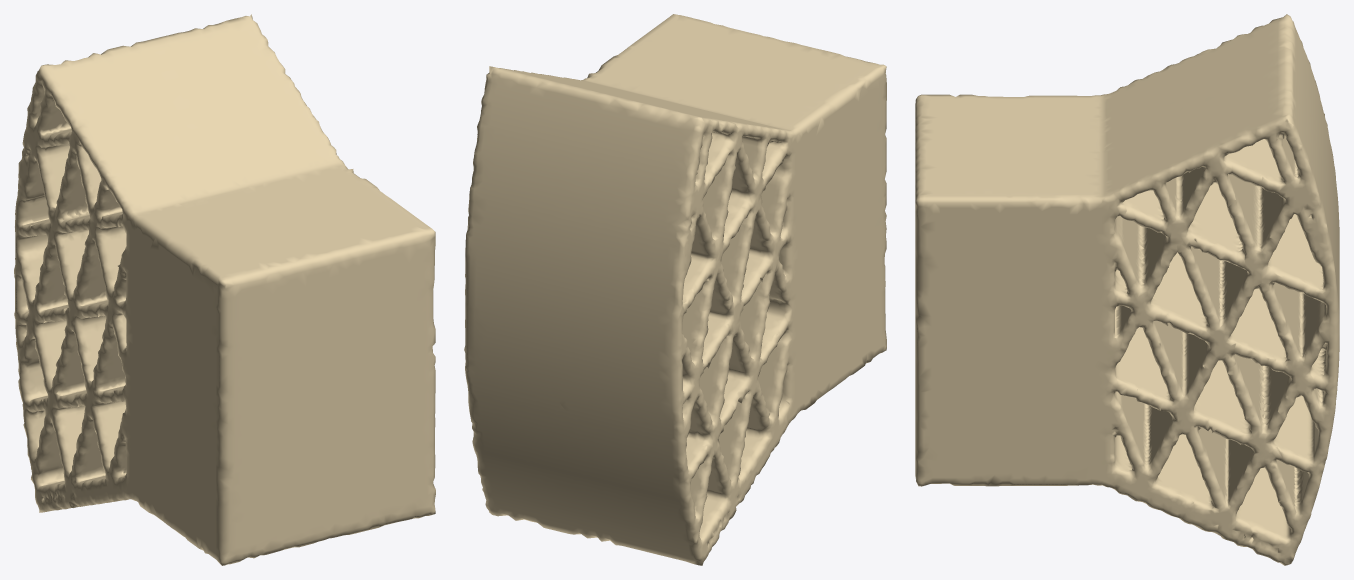
File: ollie-paw-shape-020.glb
3 renders of one model, left to right at view 1: azimuth 30°, elevation 25°; view 2: azimuth 150°, elevation 25°; view 3: azimuth 270°, elevation 25°, orthographic.
Visible parts, largest first — view 1: world; view 2: world; view 3: world.
Boxes of the visible parts, x1=… form: world: x1=14, y1=14, x2=435, y2=565; world: x1=464, y1=14, x2=886, y2=565; world: x1=915, y1=14, x2=1339, y2=565.
Size of the model in its own units: 20 by 39.83 by 34.
